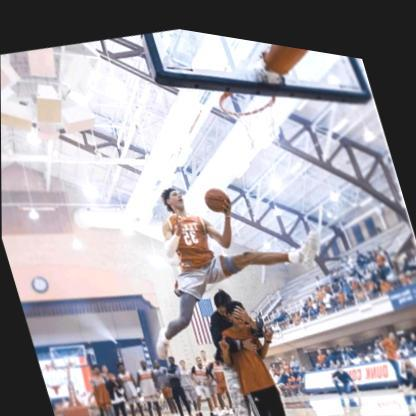basketball: (109, 135, 344, 378), (201, 175, 230, 209)
rim: (215, 66, 288, 152)
